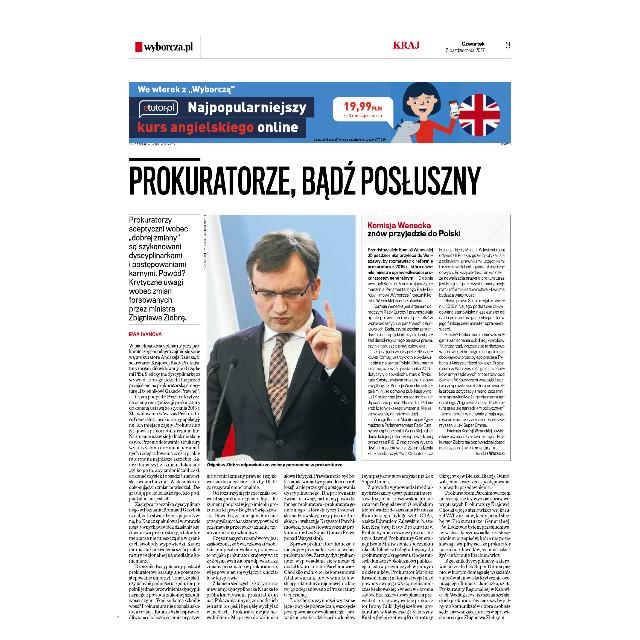article: (128, 157, 514, 623)
